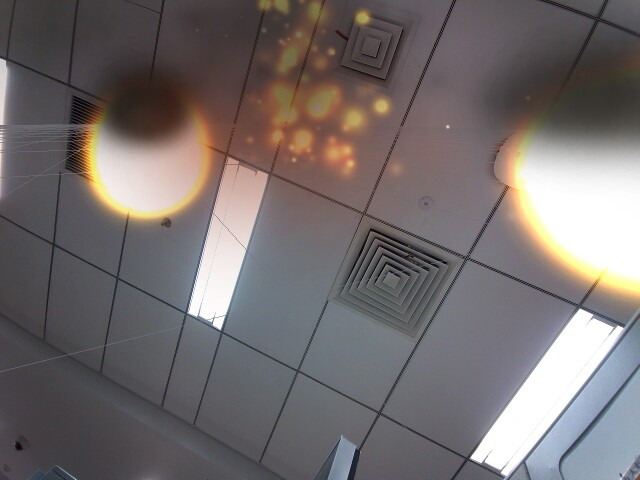fire: (509, 52, 640, 300), (83, 83, 211, 220)
